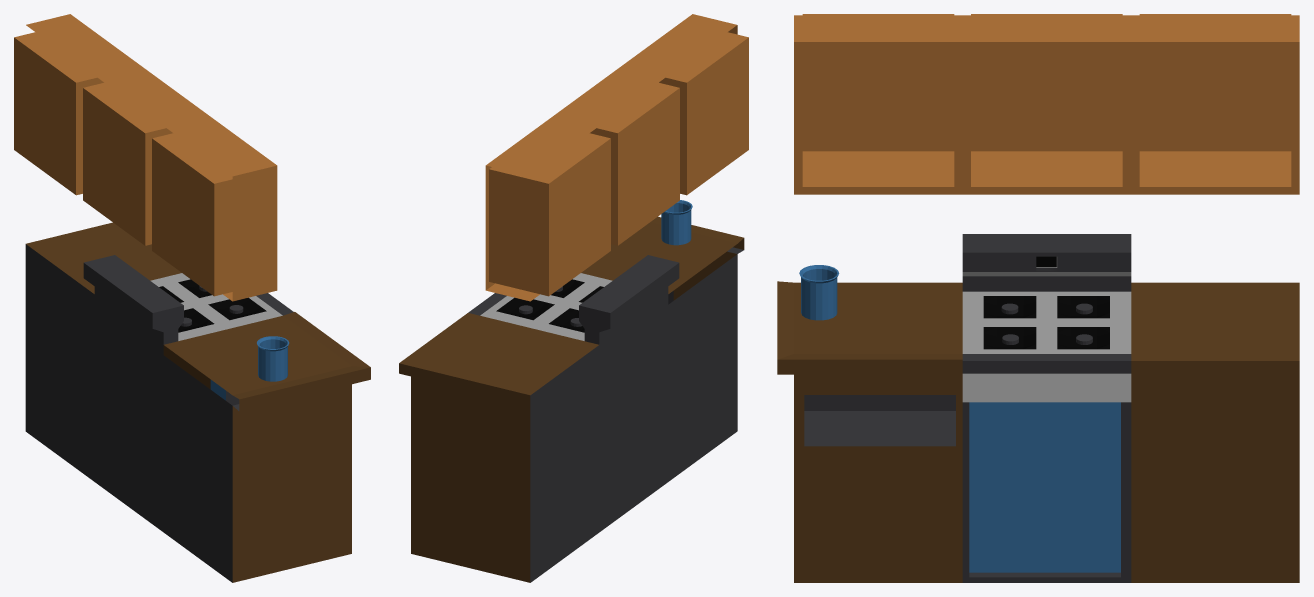
The model's file is kitchen.obj.
3 views of the same model, side by side, from view 1: azimuth 30°, elevation 25°; view 2: azimuth 150°, elevation 25°; view 3: azimuth 270°, elevation 25° (orthographic). The views are drawn at different scales.
Parts seen in each view (by area): view 1: Cube.001, Cylinder; view 2: Cube.001, Cylinder; view 3: Cube.001, Cylinder.
Boxes of the visible parts, <box> form: Cube.001: <box>14,14,370,582</box>; Cylinder: <box>257,336,289,381</box>; Cube.001: <box>399,14,748,582</box>; Cylinder: <box>661,200,692,245</box>; Cube.001: <box>777,14,1299,582</box>; Cylinder: <box>799,265,839,320</box>.
Size of the model in its own units: 2.54 by 6.5 by 6.2.
